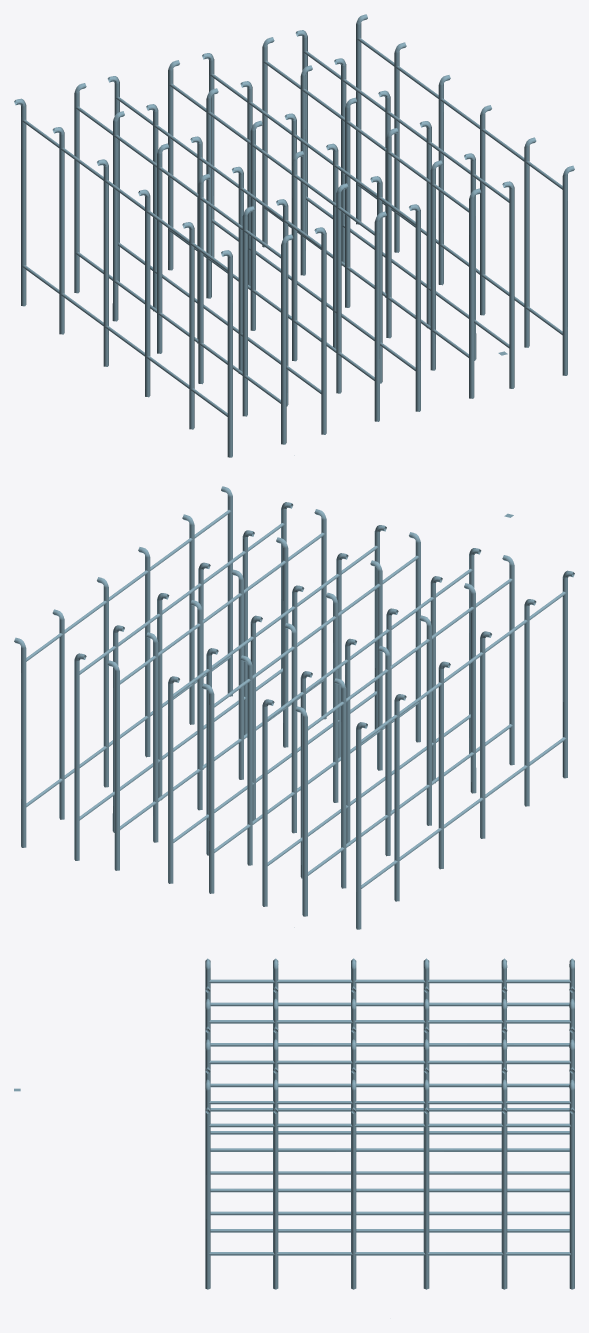
The model's file is Toaster_24_0.obj.
3 views of the same model, one above another, from view 1: azimuth 30°, elevation 25°; view 2: azimuth 150°, elevation 25°; view 3: azimuth 270°, elevation 25° (orthographic). The views are drawn at different scales.
Bounding box in the file's own units: 0.1891 × 0.1663 × 0.2971.
